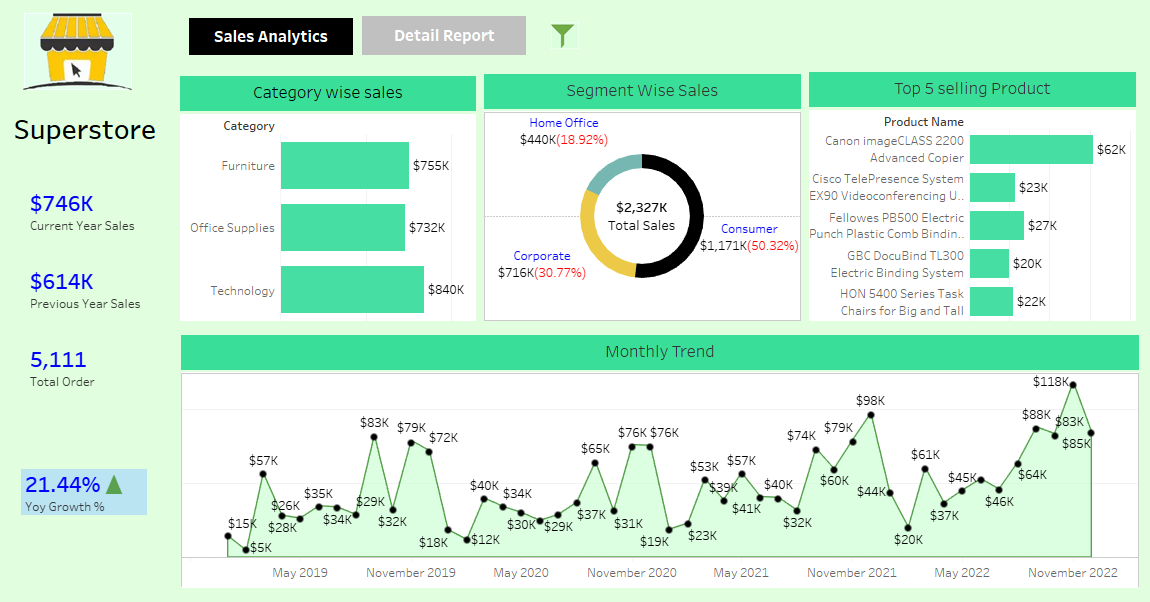

The page's visual inventory and layout, read from the dashboard file:
{"tool":"tableau","page":{"name":"Dashboard 1","canvas":[1000,1000],"units":"permille","ordinal":0},"visuals":[{"type":"filter","title":"Monthly Trend","param":"[federated.1suhunm1h5pino1gvicoa1rjjj32].[none:Region:nk]","box":[6.9,13.3,986.1,86.4]},{"type":"image","param":"Image/Superstore-[number redacted].png","box":[24.2,19.9,94.4,156.2]},{"type":"dashboard-object","box":[317.8,26.6,142,64.8]},{"type":"dashboard-object","box":[480.5,28.2,25.1,59.8]},{"type":"dashboard-object","box":[168,29.9,142,61.5]},{"type":"filter","title":"Monthly Trend","param":"[federated.1suhunm1h5pino1gvicoa1rjjj32].[none:Category:nk]","box":[6.9,99.7,986.1,93]},{"type":"worksheet","title":"Top 5 selling Product","mark":"Automatic","rows":["Product Name"],"cols":["Sales"],"box":[704.8,119.6,283.1,413.6]},{"type":"worksheet","title":"Segment Wise Sales","mark":"Pie","rows":["Calculation_841610191454302208","Calculation_841610191454302208"],"box":[423.4,122.9,274.5,410.3]},{"type":"worksheet","title":"Category wise sales","mark":"Automatic","rows":["Category"],"cols":["Sales"],"box":[160.2,126.2,256.3,407]},{"type":"text","box":[13.8,177.7,134.2,69.8]},{"type":"filter","title":"Monthly Trend","param":"[federated.1suhunm1h5pino1gvicoa1rjjj32].[yr:Calculation_976999655817654272:ok]","box":[6.9,192.7,986.1,86.4]},{"type":"worksheet","title":"Year wise Sale","mark":"Automatic","box":[26.8,259.1,140.3,443.5]},{"type":"worksheet","title":"Monthly Trend","mark":"Area","rows":["Sales","Sales"],"cols":["Order Date"],"box":[161,556.5,829.4,420.3]},{"type":"worksheet","title":"Total Order","mark":"Automatic","box":[22.9,753.9,128.6,137.8]}]}

Visuals, with their boxes on the dashboard's canvas, which has no fixed pixel size, in thousandths of its width and height (x1, y1, x2, y2). These are canvas units, not pixel positions in the 1150x602 screenshot, which may show the page scaled, cropped or inside an application window:
"Monthly Trend" filter: select_region(7, 13, 993, 100)
image: select_region(24, 20, 119, 176)
dashboard-object: select_region(318, 27, 460, 91)
dashboard-object: select_region(480, 28, 506, 88)
dashboard-object: select_region(168, 30, 310, 91)
"Monthly Trend" filter: select_region(7, 100, 993, 193)
"Top 5 selling Product" worksheet: select_region(705, 120, 988, 533)
"Segment Wise Sales" worksheet (Pie marks): select_region(423, 123, 698, 533)
"Category wise sales" worksheet: select_region(160, 126, 416, 533)
text: select_region(14, 178, 148, 248)
"Monthly Trend" filter: select_region(7, 193, 993, 279)
"Year wise Sale" worksheet: select_region(27, 259, 167, 703)
"Monthly Trend" worksheet (Area marks): select_region(161, 556, 990, 977)
"Total Order" worksheet: select_region(23, 754, 152, 892)
